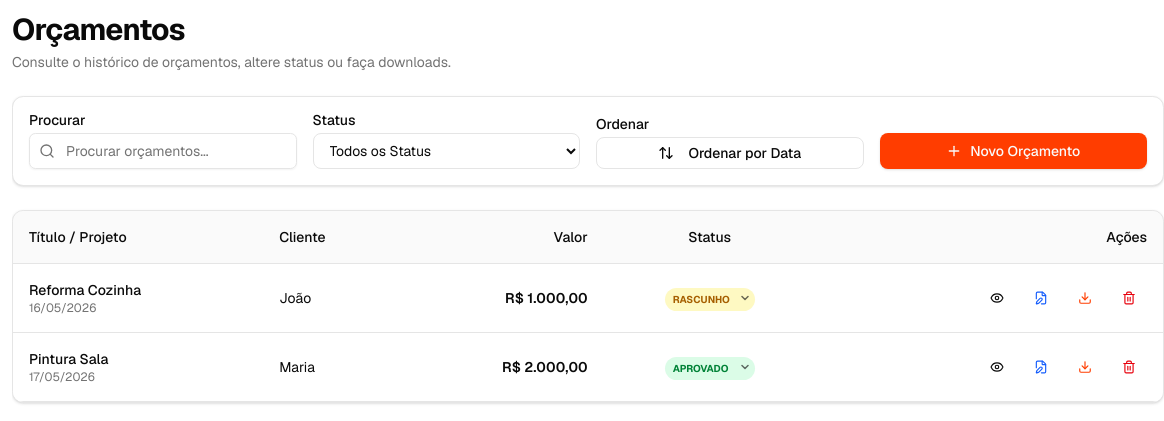
Test: QuotesHistory Page › filters by search term
Expected: the text "Reforma Cozinha" is shown, [29,281,141,299]
Type "Cozinha" into the field with placeholder "Procurar orçamentos..." at x=163, y=151, box [29,133,296,169]
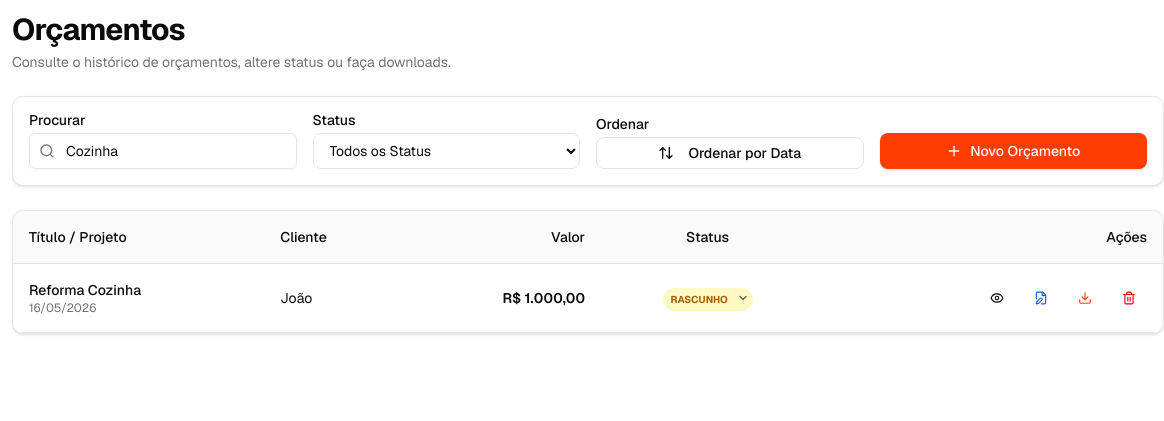
Expected: the text "Reforma Cozinha" is shown, [29,281,141,299]
Expected: the text "Pintura Sala" is gone
